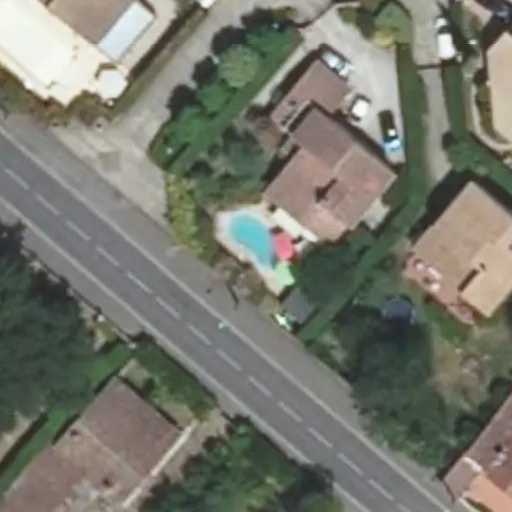pool: (218, 229, 292, 254)
